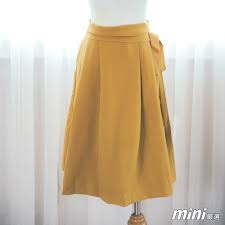C_skirt: (57, 21, 181, 203)
